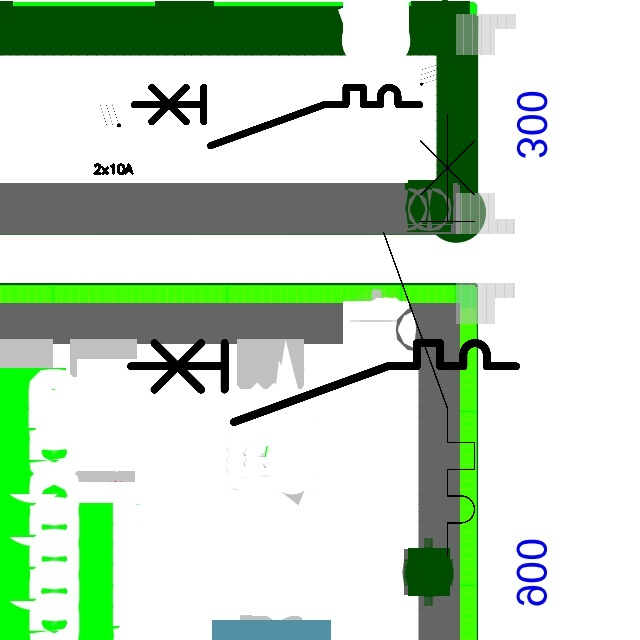interruptor_termomagnetico: (372, 102, 486, 568), (121, 333, 526, 432), (126, 80, 426, 153)
